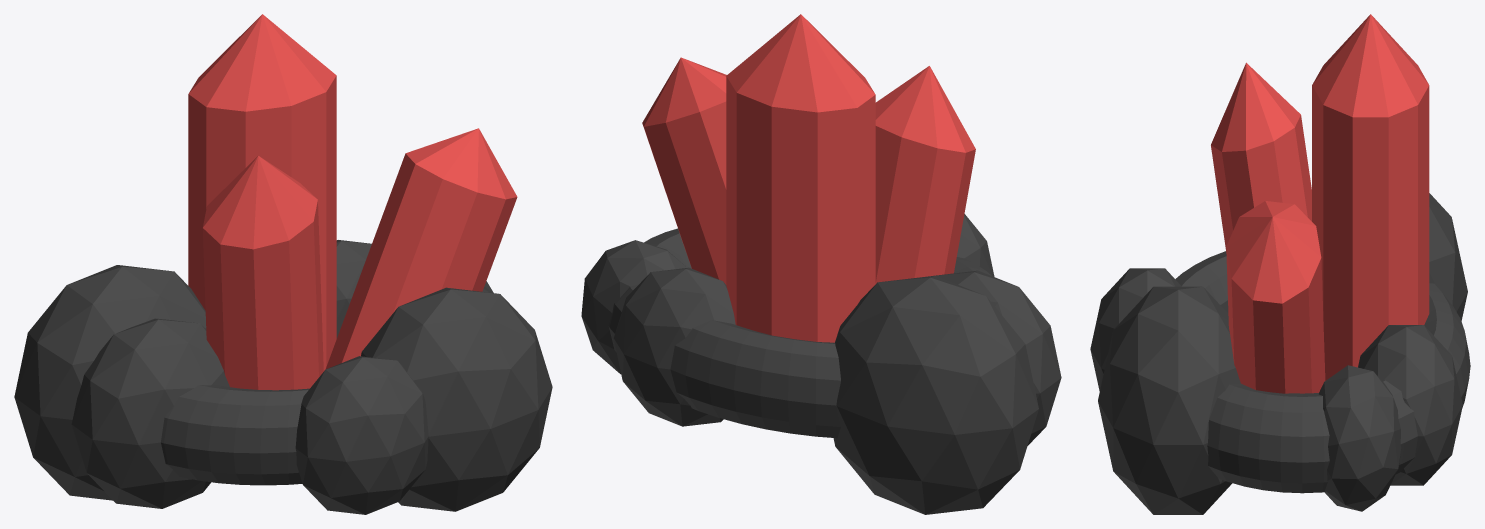
File: Crystal Cluster.fbx
3 views of the same model, side by side, from view 1: azimuth 30°, elevation 25°; view 2: azimuth 150°, elevation 25°; view 3: azimuth 270°, elevation 25° (orthographic).
Visible parts, largest first — view 1: Torus, Cylinder; view 2: Torus, Cylinder; view 3: Torus, Cylinder.
Part boxes in pixels (bbox=[...]): Torus: bbox=[14, 240, 552, 514]; Cylinder: bbox=[188, 14, 517, 390]; Torus: bbox=[581, 214, 1061, 514]; Cylinder: bbox=[642, 14, 975, 342]; Torus: bbox=[1090, 193, 1470, 514]; Cylinder: bbox=[1211, 14, 1429, 393].
Bounding box in the file's own units: 144 × 140 × 104.
